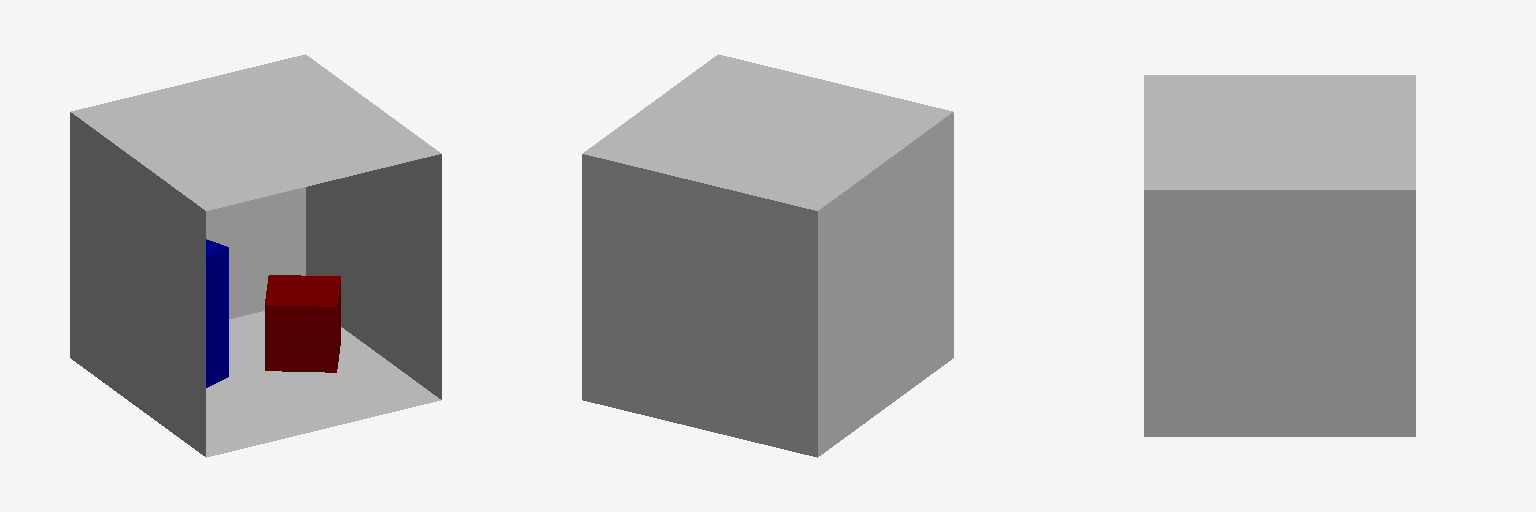
File: materialTest.obj
3 views of the same model, side by side, from view 1: azimuth 30°, elevation 25°; view 2: azimuth 150°, elevation 25°; view 3: azimuth 270°, elevation 25° (orthographic).
Parts seen in each view (by area): view 1: Cube.001, Cube.002, Cube; view 2: Cube.001; view 3: Cube.001.
Boxes of the visible parts, x1=… form: Cube.001: x1=70, y1=54, x2=441, y2=457; Cube.002: x1=265, y1=275, x2=340, y2=372; Cube: x1=206, y1=239, x2=228, y2=387; Cube.001: x1=582, y1=54, x2=953, y2=457; Cube.001: x1=1144, y1=75, x2=1415, y2=436.
Size of the model in its own units: 4 by 4 by 4.